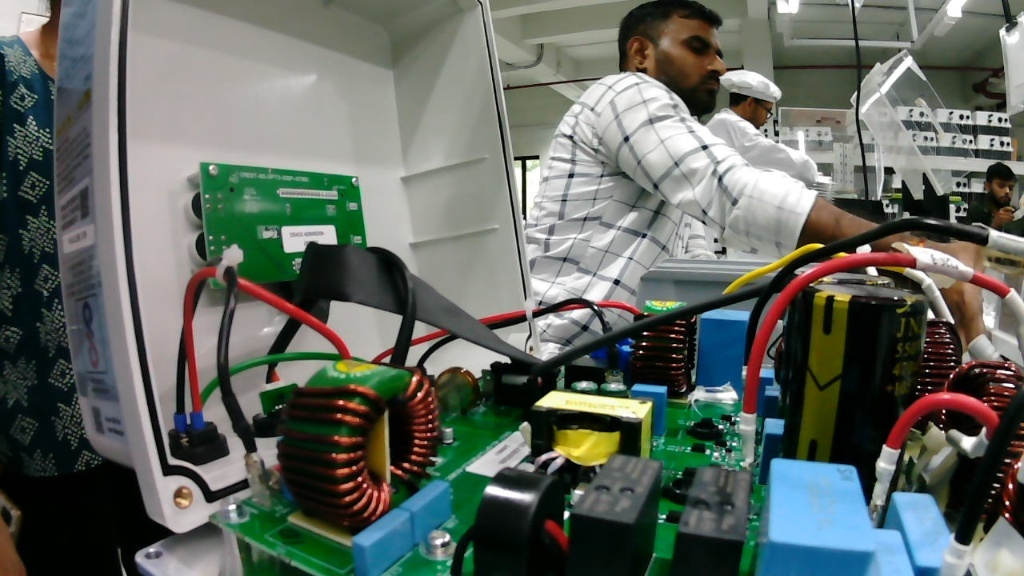wire_red: (140, 299, 247, 483)
